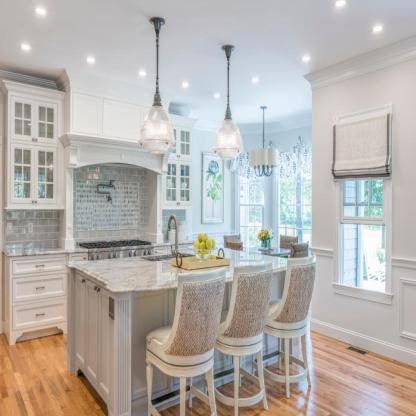chair: (140, 272, 226, 416), (276, 260, 333, 416), (223, 266, 272, 414)
light: (209, 39, 250, 169), (141, 12, 172, 164), (356, 10, 408, 60), (250, 93, 275, 179), (66, 52, 108, 69), (25, 2, 59, 21), (322, 0, 359, 14), (12, 37, 37, 57), (132, 64, 152, 88), (250, 69, 269, 93), (178, 69, 194, 95), (304, 44, 314, 73), (211, 89, 222, 107)
table: (68, 242, 317, 416)
